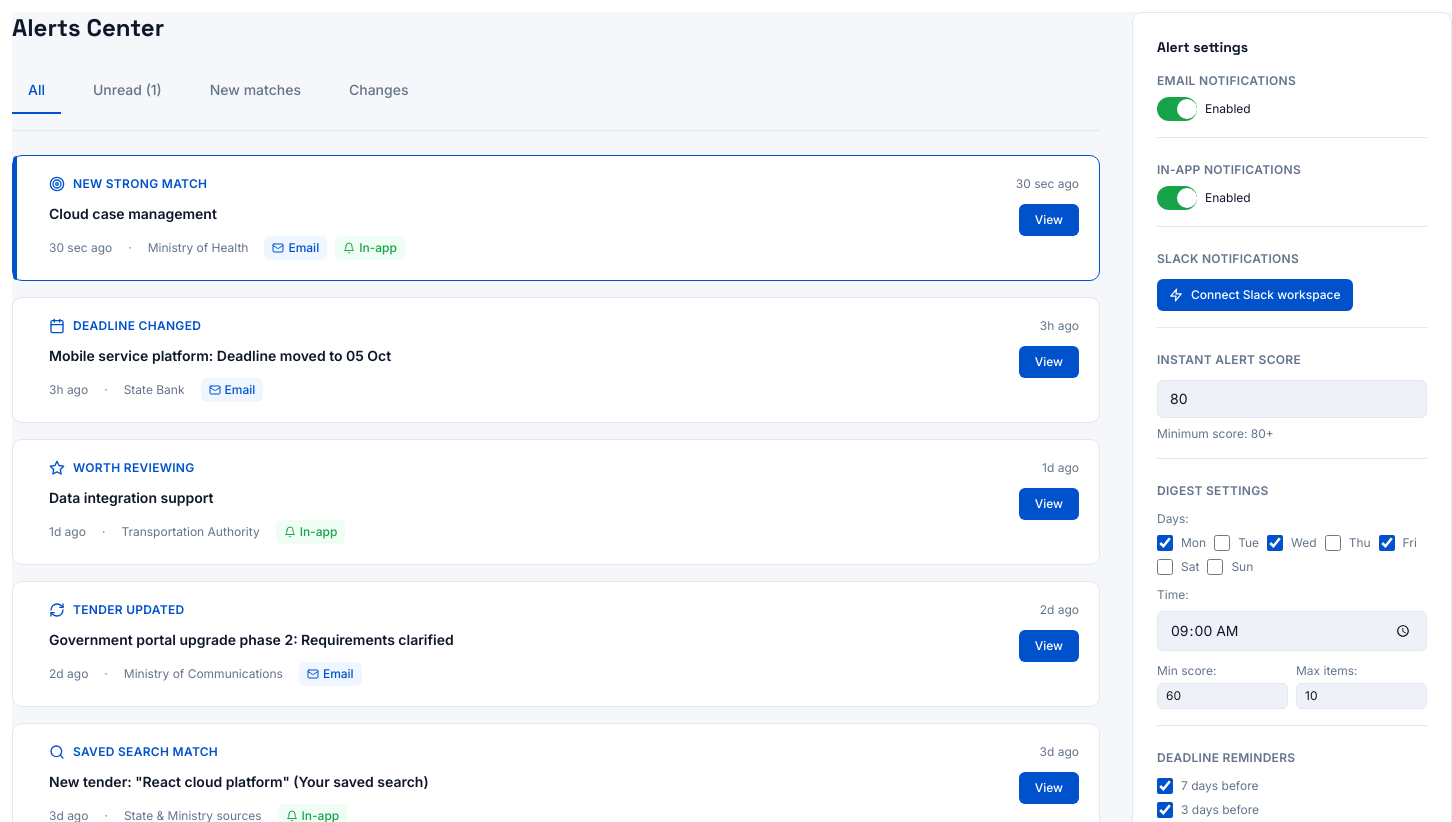
Test: AlertsCenter › connects Slack workspace and shows configuration panel
Click connect button
Click the button "Connect Slack workspace": (1255,295) [1157,279,1352,311]
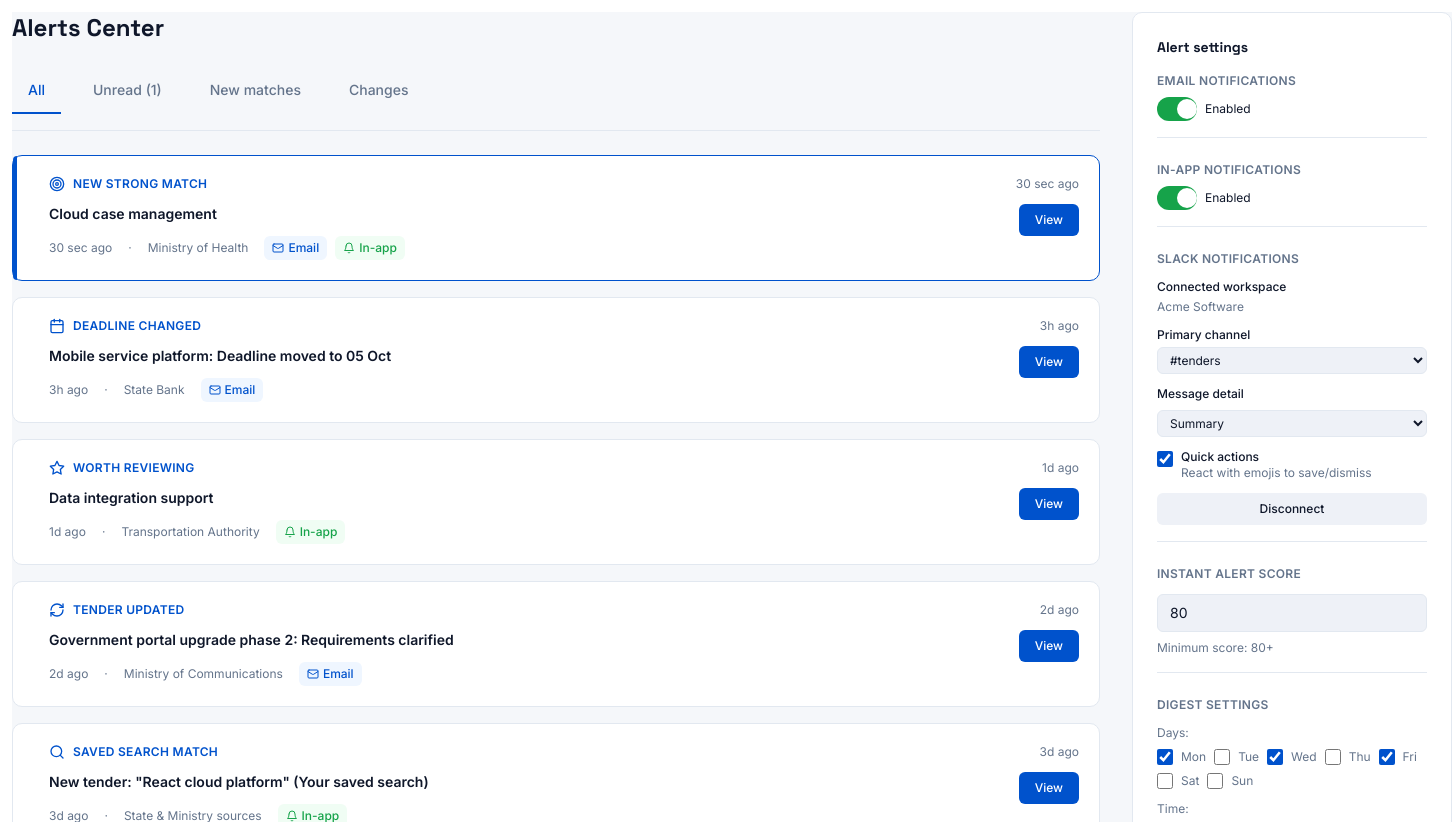
Now the text "Connected workspace" is shown, box [1157,279,1286,294]
Now the text "Acme Software" is shown, box [1157,299,1244,314]
Now the text "Primary channel" is shown, box [1157,327,1250,342]
